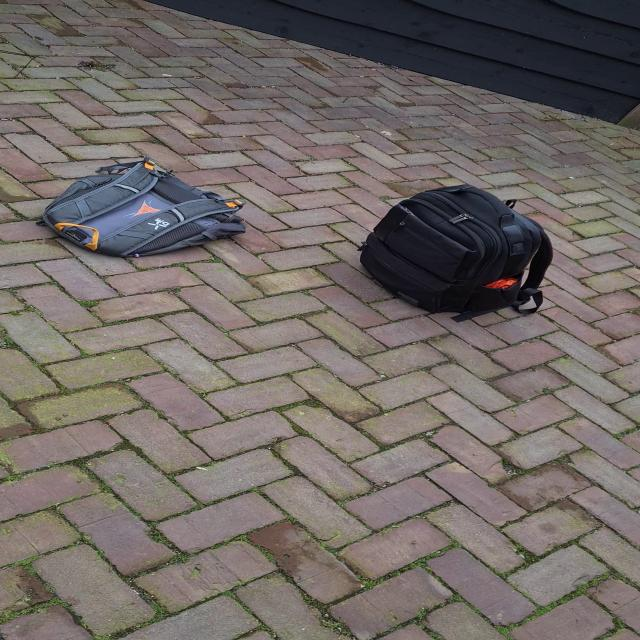backpack: (352, 184, 558, 322), (35, 161, 249, 262)
